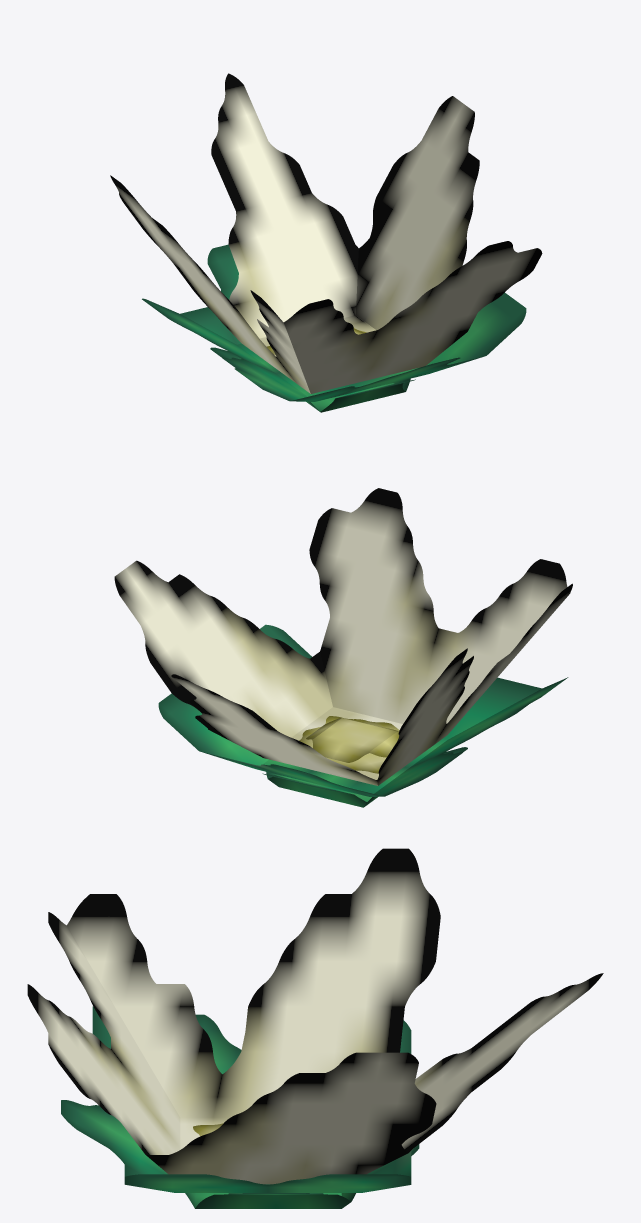
File: pje_plant_flower.fbx
The picture shows the model from 3 angles, top to bottom: view 1: azimuth 30°, elevation 25°; view 2: azimuth 150°, elevation 25°; view 3: azimuth 270°, elevation 25°; orthographic projection. The views are drawn at different scales.
Visible parts, largest first — view 1: flower.001; view 2: flower.001; view 3: flower.001.
Part boxes in pixels (box(x1,y1,x2,y2)): flower.001: box(110, 73, 542, 412); flower.001: box(114, 488, 572, 807); flower.001: box(27, 848, 603, 1208).
Size of the model in its own units: 10.07 by 5.67 by 12.59.
1 material, 1 textured.
